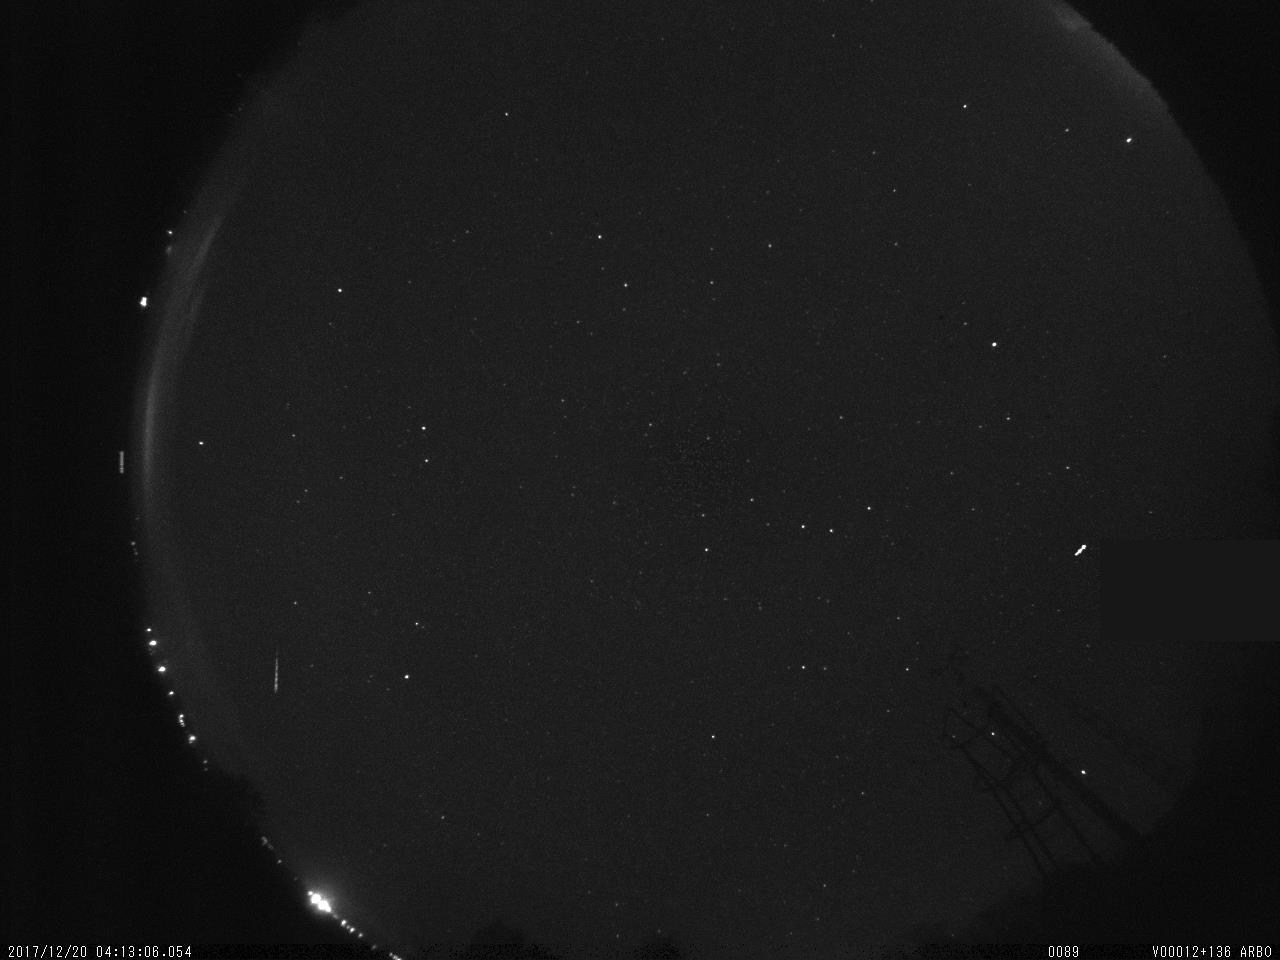meteor: (265, 635, 286, 705)
satelite: (1071, 533, 1092, 564)
